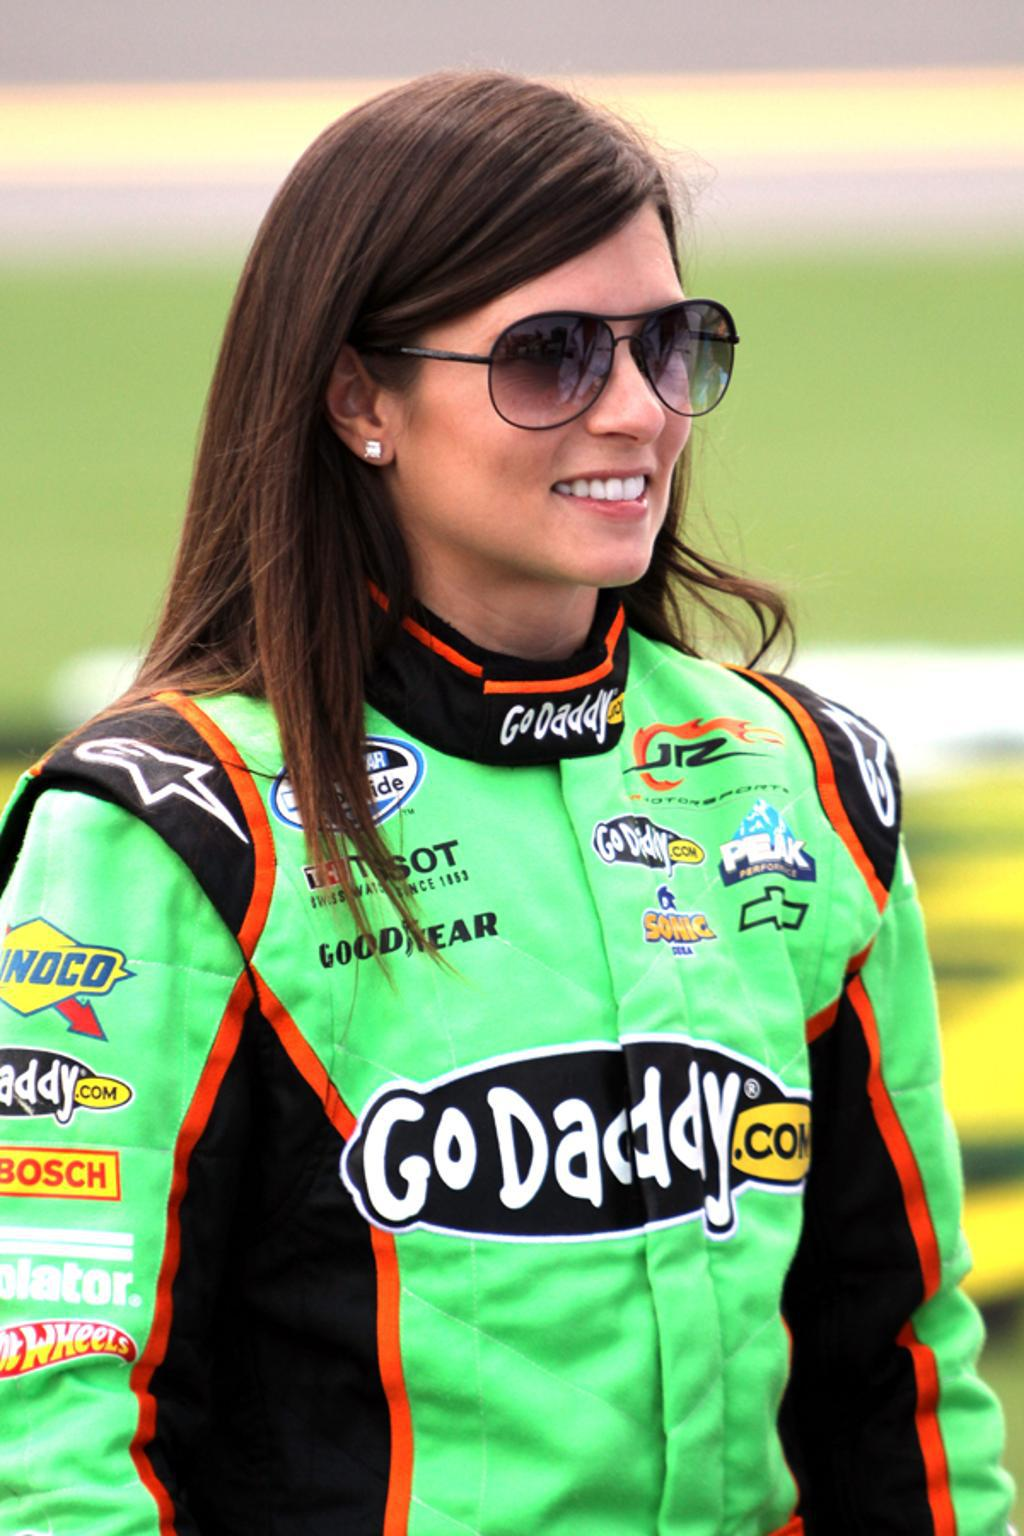face: (394, 184, 697, 589)
